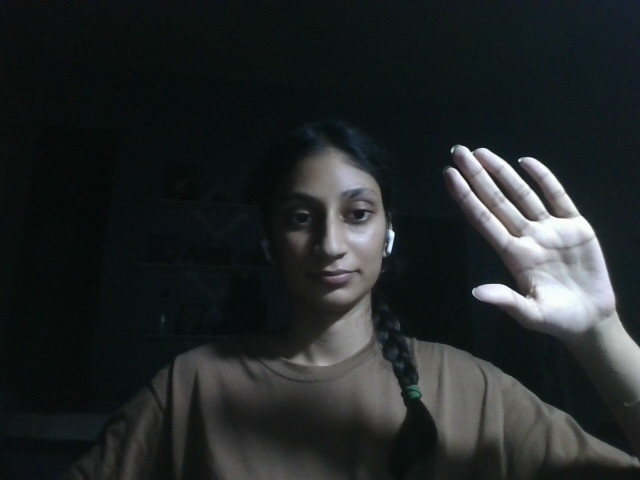hello: (435, 144, 617, 331)
